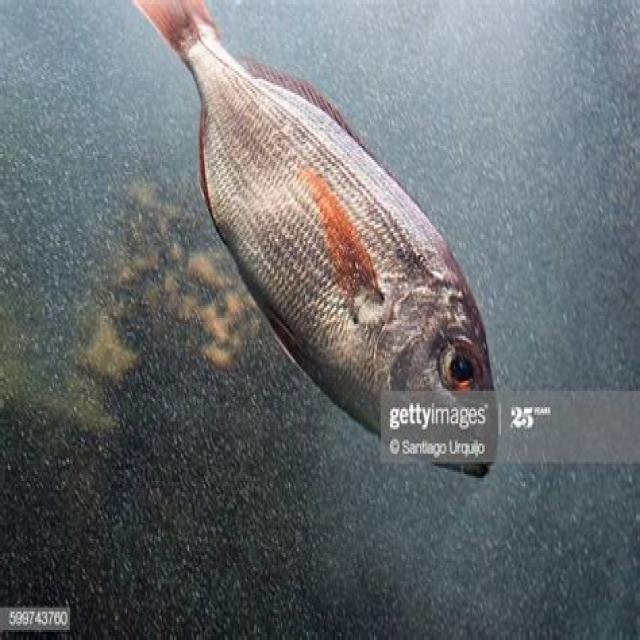Healthy Fish: (122, 0, 510, 479)
